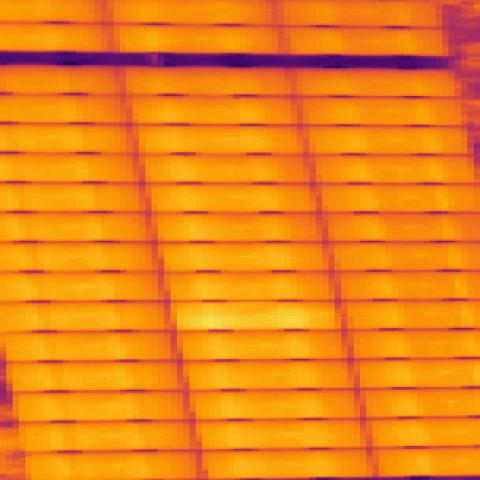fault: (177, 304, 328, 328)
